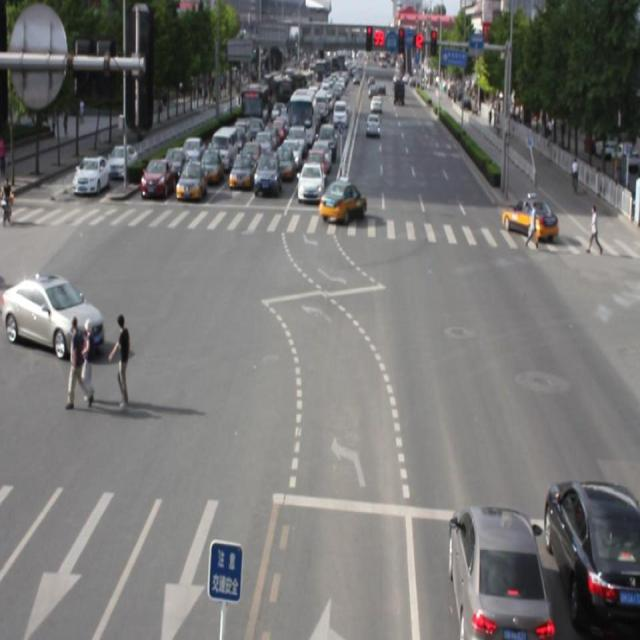car: (542, 487, 640, 640), (446, 513, 544, 640), (0, 274, 104, 358), (318, 180, 367, 223)
